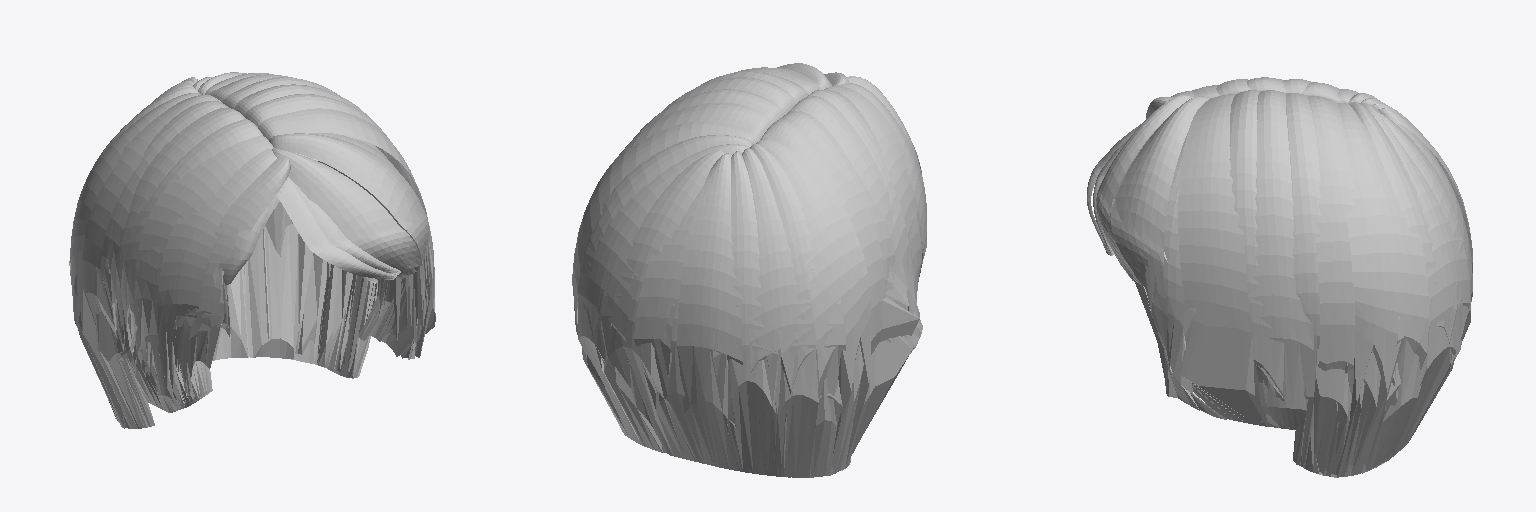
3 renders of one model, left to right at view 1: azimuth 30°, elevation 25°; view 2: azimuth 150°, elevation 25°; view 3: azimuth 270°, elevation 25°, orthographic.
Parts seen in each view (by area): view 1: T4_null; view 2: T4_null; view 3: T4_null.
Part boxes in pixels (left/top/right/bottom): T4_null: left=69, top=72, right=435, bottom=428; T4_null: left=572, top=63, right=926, bottom=477; T4_null: left=1087, top=77, right=1472, bottom=477.
Bounding box in the file's own units: 0.0803 × 0.0871 × 0.0915.